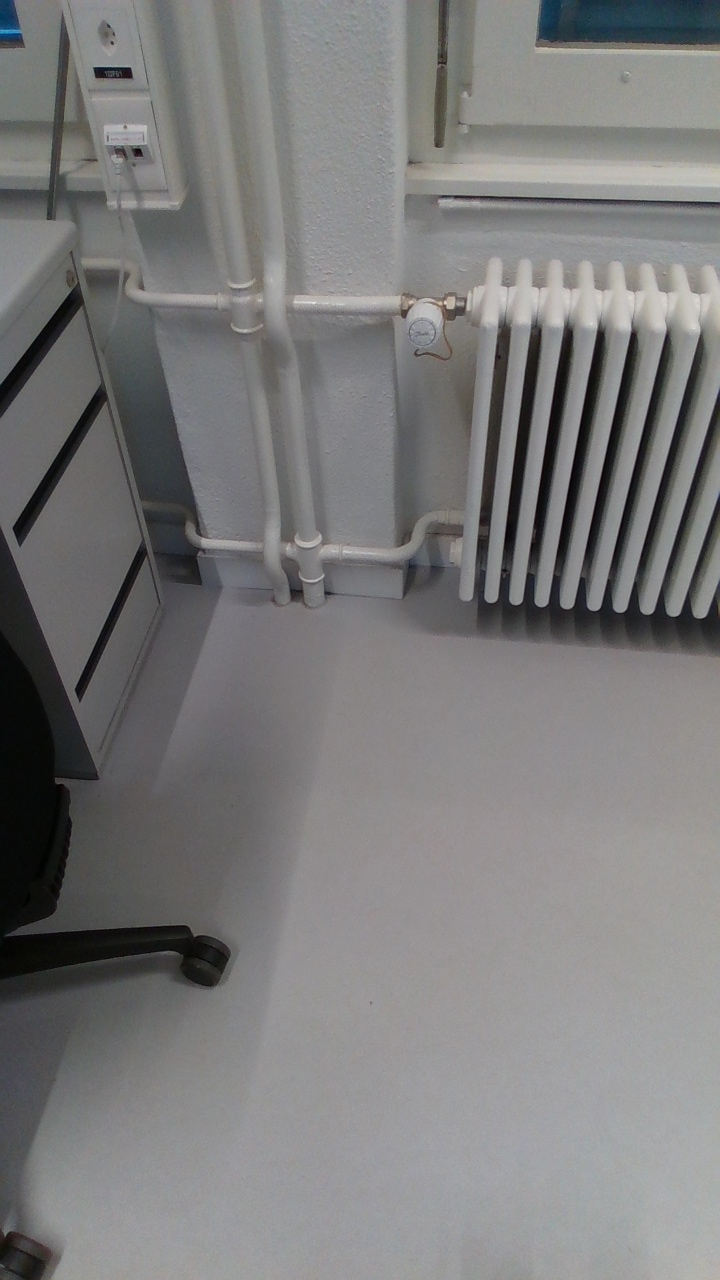Knob_Radiator: (393, 292, 464, 366)
Radiator: (450, 250, 720, 629)
